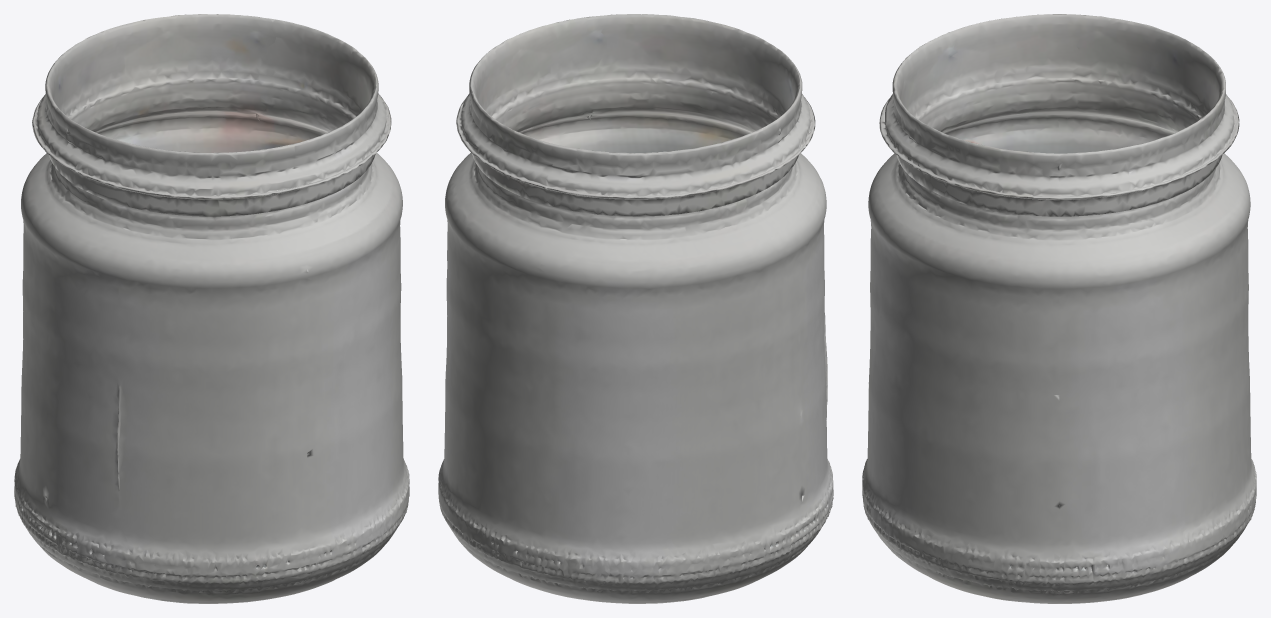
File: tarro_cristal.fbx
The picture shows the model from 3 angles, left to right: view 1: azimuth 30°, elevation 25°; view 2: azimuth 150°, elevation 25°; view 3: azimuth 270°, elevation 25°; orthographic projection.
Visible parts, largest first — view 1: tripo_node_68c7e85e; view 2: tripo_node_68c7e85e; view 3: tripo_node_68c7e85e.
Boxes of the visible parts, box(x1,y1,x2,y2) form: tripo_node_68c7e85e: box(14, 14, 409, 603); tripo_node_68c7e85e: box(438, 14, 833, 603); tripo_node_68c7e85e: box(862, 14, 1256, 603).
Size of the model in its own units: 0.792 by 0.9999 by 0.7913.
1 material, 1 textured.
